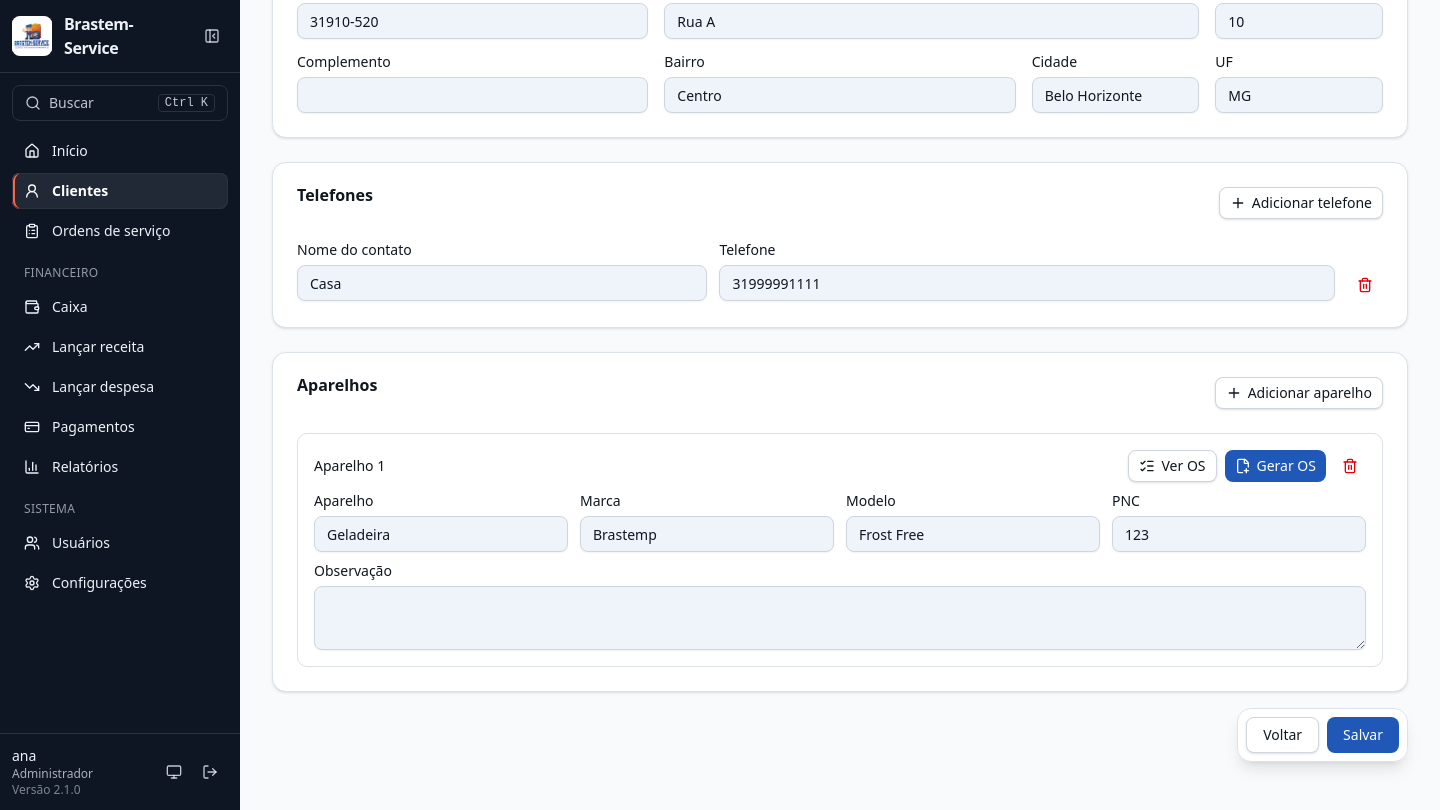
Scenario: atalhos de teclado nos formulários (R-UX-08) › com um diálogo aberto, o Esc só fecha o diálogo
(page scrolled)
Click the button named "Remover aparelho 1": (1350,466) [1334,450,1366,482]
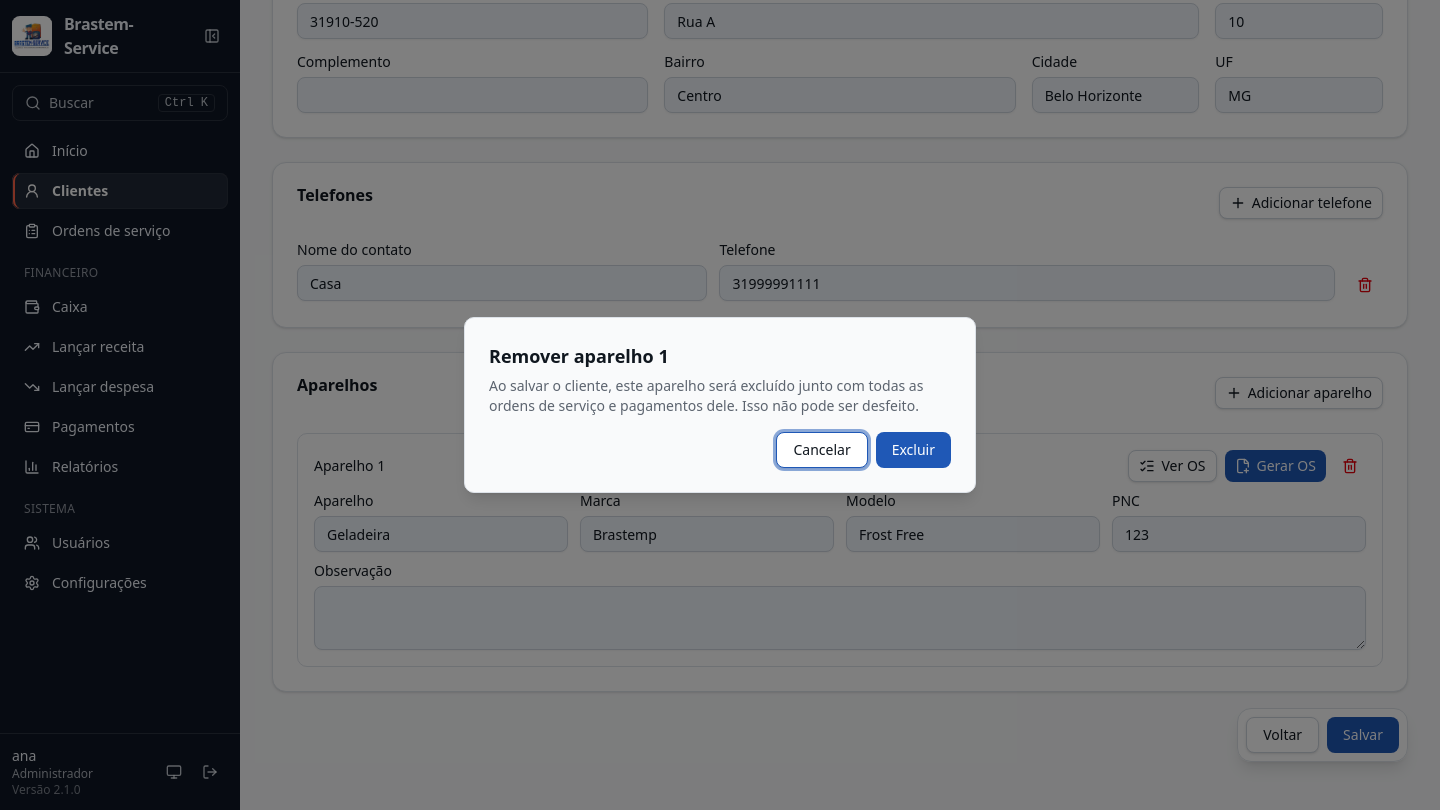
Press Escape in the dialog, box [464,317,976,493]
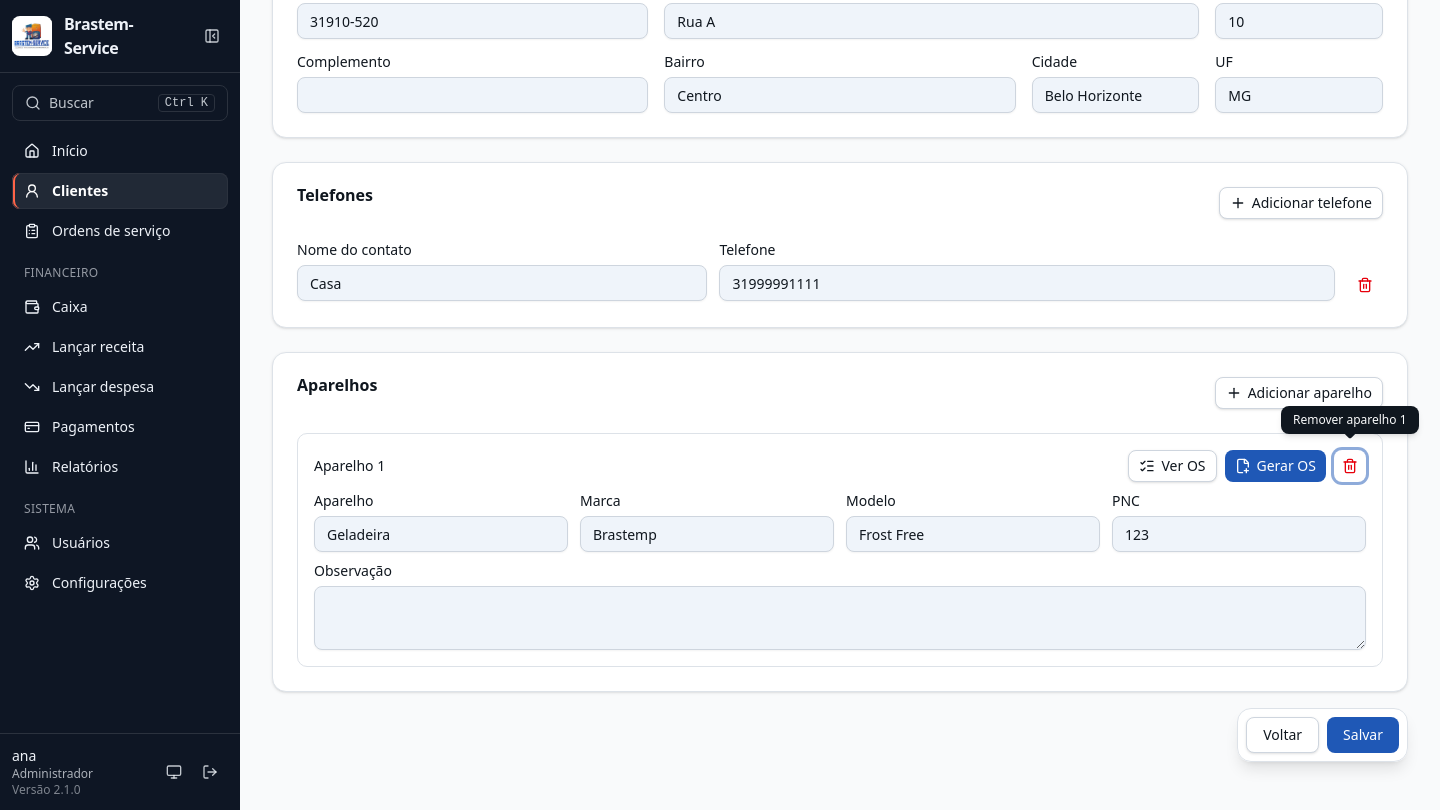
Check: the dialog is gone
